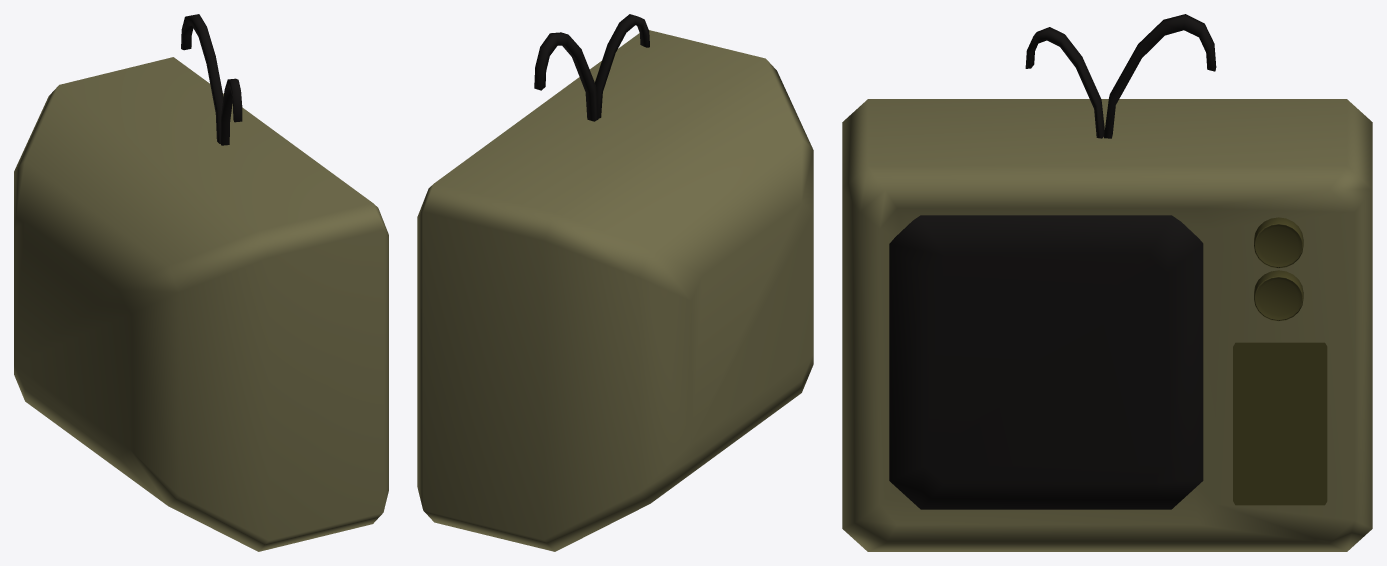
File: lvl1_TV.fbx
3 renders of one model, left to right at view 1: azimuth 30°, elevation 25°; view 2: azimuth 150°, elevation 25°; view 3: azimuth 270°, elevation 25°, orthographic. The views are drawn at different scales.
Visible parts, largest first — view 1: pCube18, pCube20, pCube21; view 2: pCube18, pCube20, pCube21; view 3: pCube18, pCube19, pPlane2, pCube20, pCylinder1, pCylinder2, pCube21.
Part boxes in pixels (x1,y1,x2,y2): pCube18: (14,57,388,551); pCube20: (181,14,223,143); pCube21: (220,78,242,145); pCube18: (417,30,813,551); pCube20: (534,32,598,121); pCube21: (595,14,649,118); pCube18: (842,99,1372,551); pCube19: (889,215,1203,509); pPlane2: (1233,342,1327,505); pCube20: (1104,14,1216,138); pCylinder1: (1254,217,1303,268); pCylinder2: (1254,270,1303,321); pCube21: (1025,27,1104,138).
Size of the model in its own units: 381 by 688 by 649.
